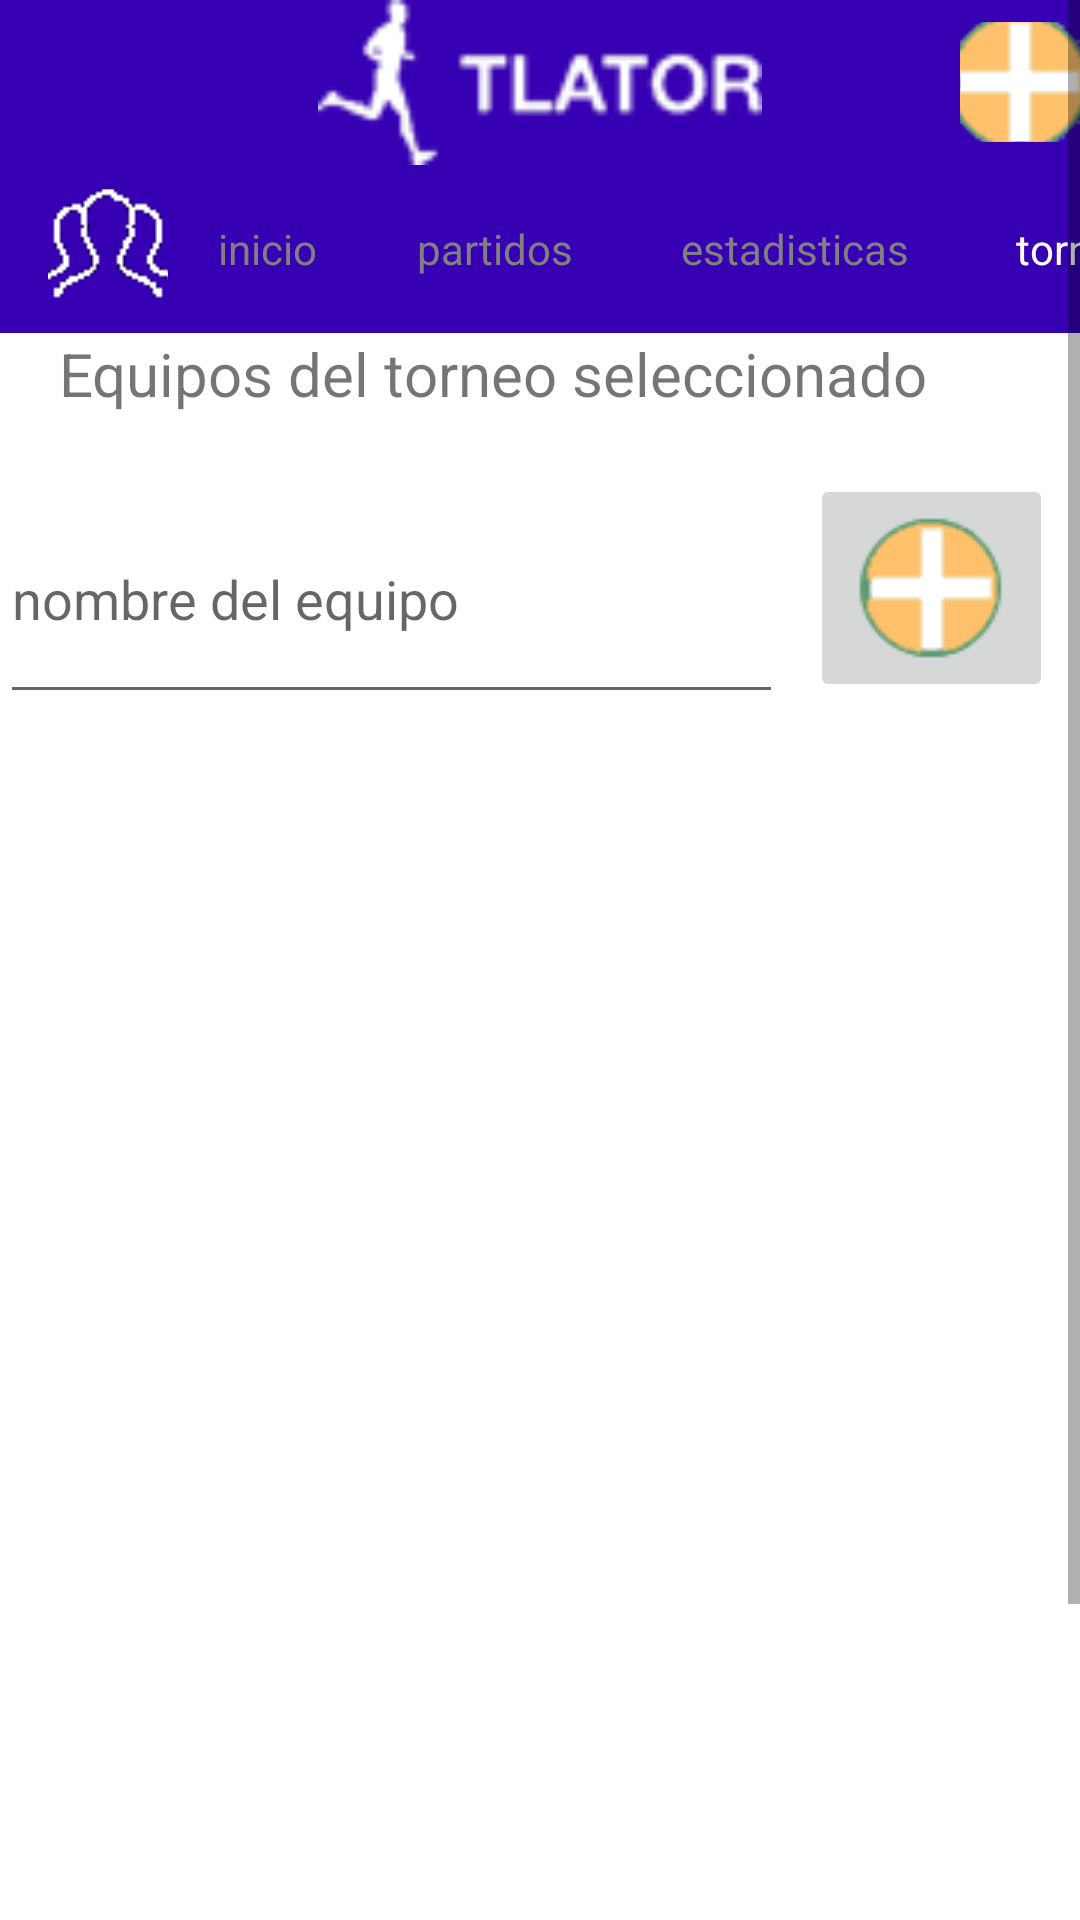

Where icons sit on this 1080x1920 app screen, as (x1, y1, x2, y2):
plus tres: (960, 22, 1080, 142), (822, 492, 1041, 684)
users: (48, 189, 168, 298)
